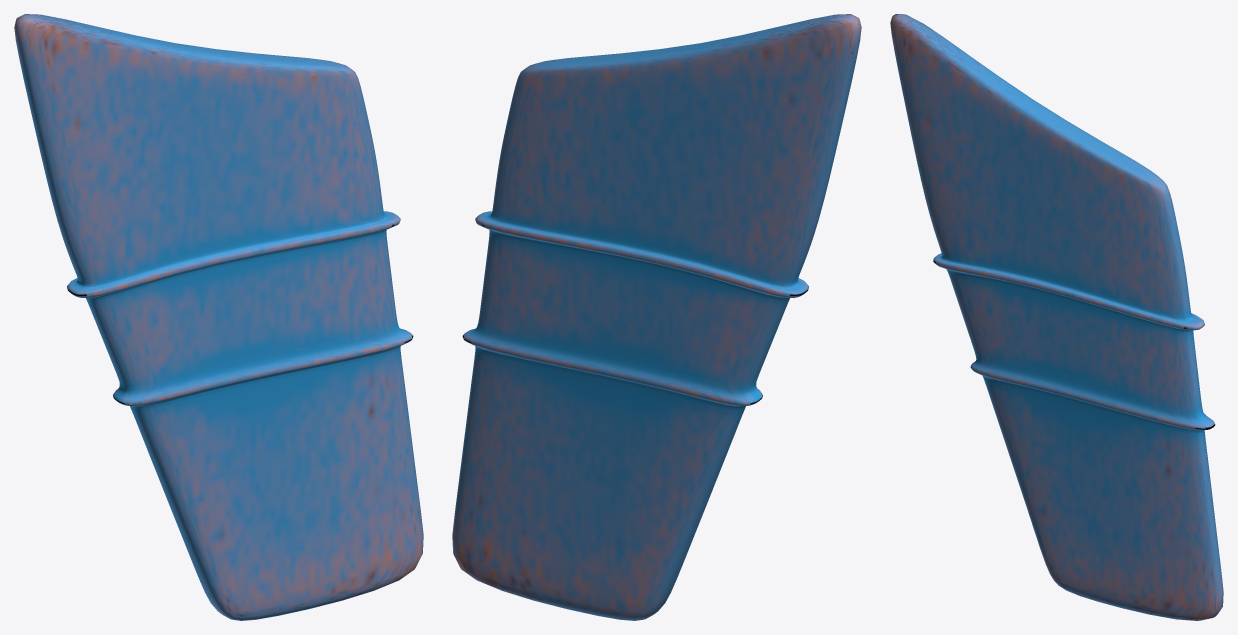
3 renders of one model, left to right at view 1: azimuth 30°, elevation 25°; view 2: azimuth 150°, elevation 25°; view 3: azimuth 330°, elevation 25°, orthographic. The views are drawn at different scales.
Visible parts, largest first — view 1: Cube.020; view 2: Cube.020; view 3: Cube.020.
Boxes of the visible parts, x1,y1,x2,y2 form: Cube.020: (14, 14, 423, 620); Cube.020: (452, 14, 861, 620); Cube.020: (890, 14, 1223, 620).
Bounding box in the file's own units: 2.27 × 3.51 × 0.2362.
1 material, 1 textured.
